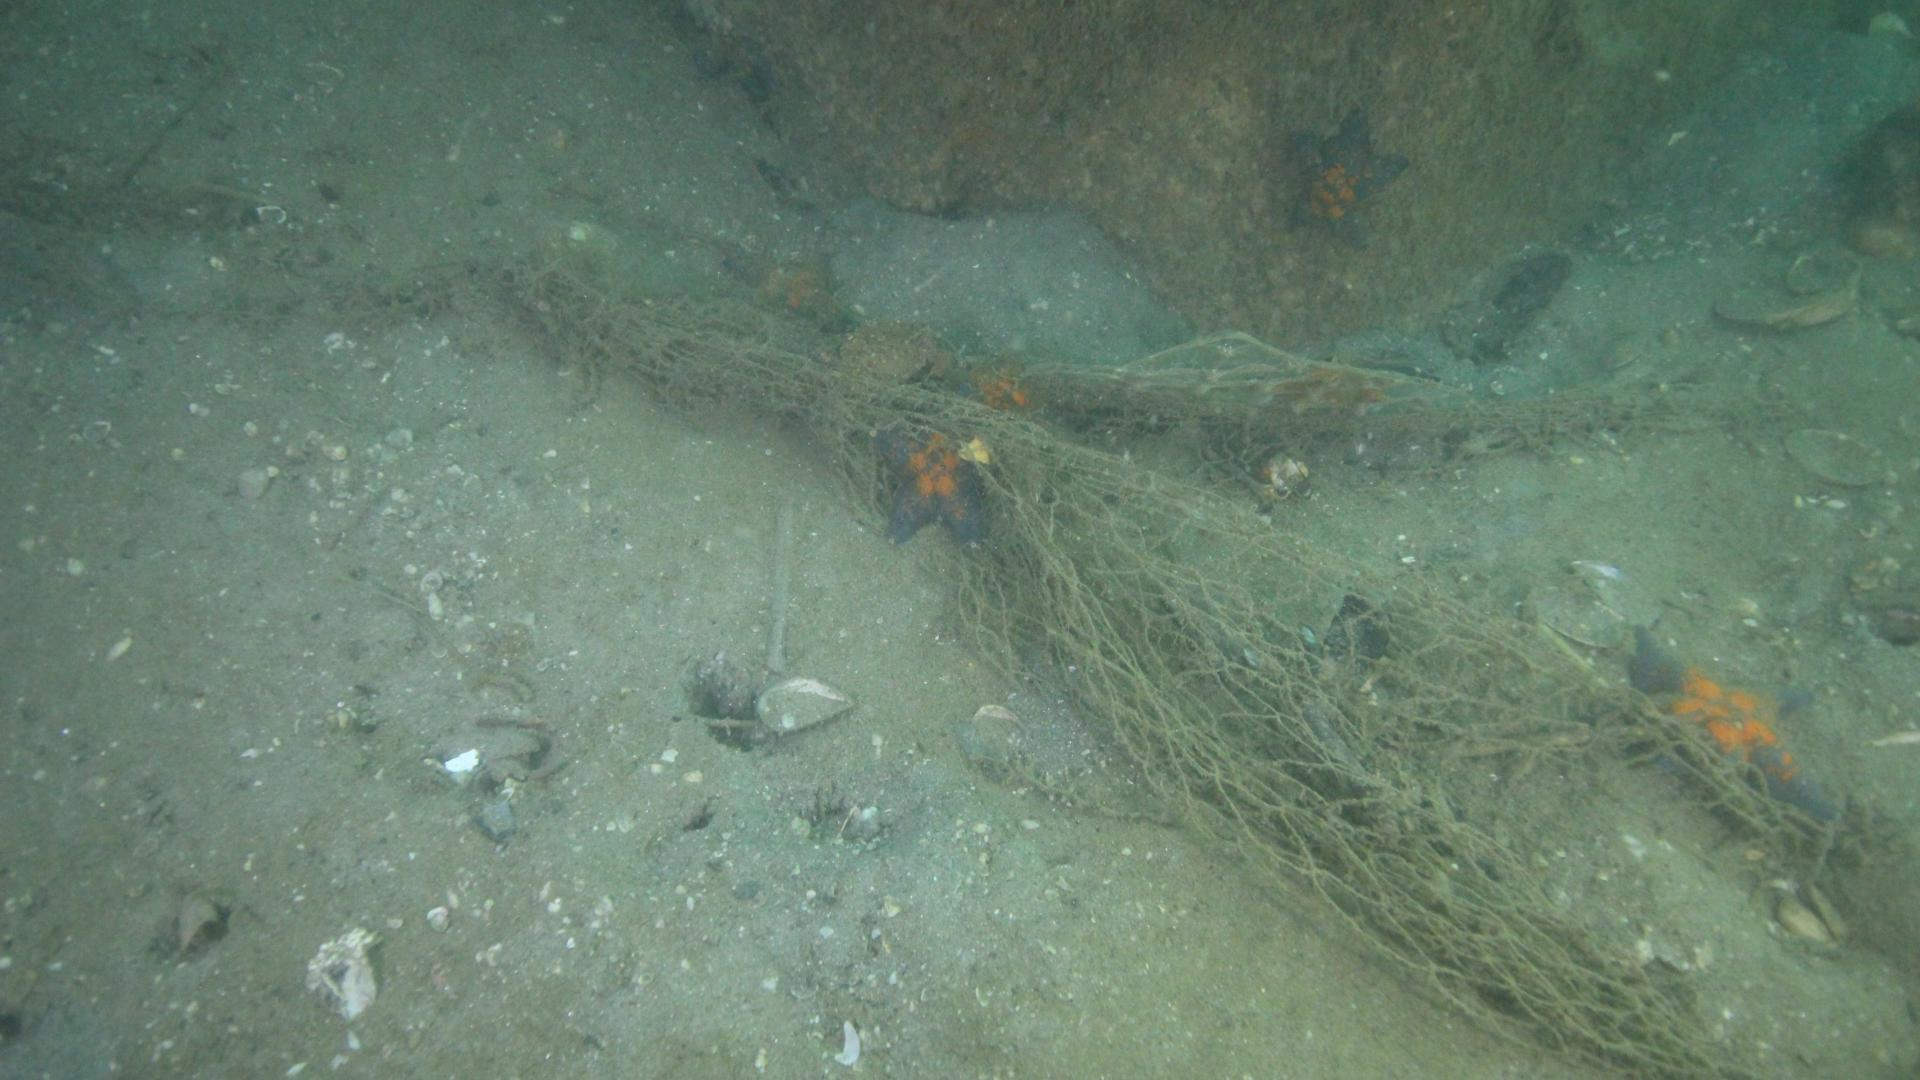fish net: (982, 429, 1920, 1080)
